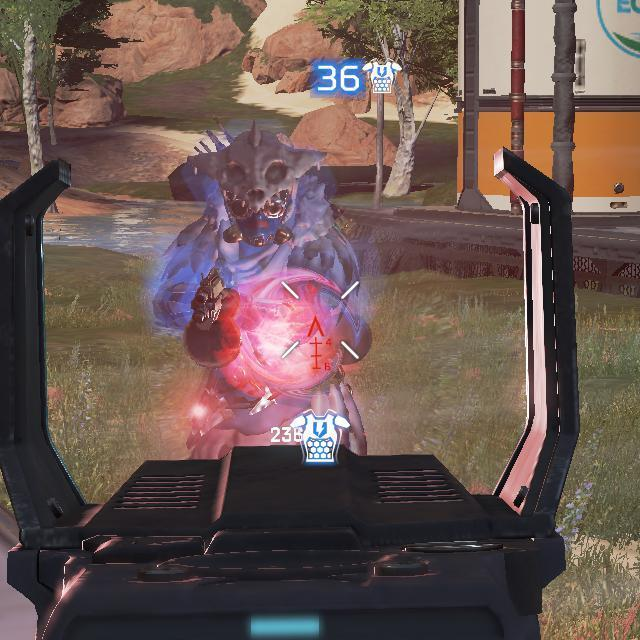avatar: (149, 123, 377, 446)
